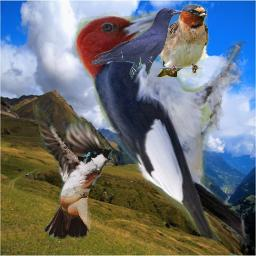Crow: (90, 7, 182, 82)
Swallow: (30, 99, 114, 239), (156, 4, 210, 78)
Woodpecker: (70, 6, 254, 247)
